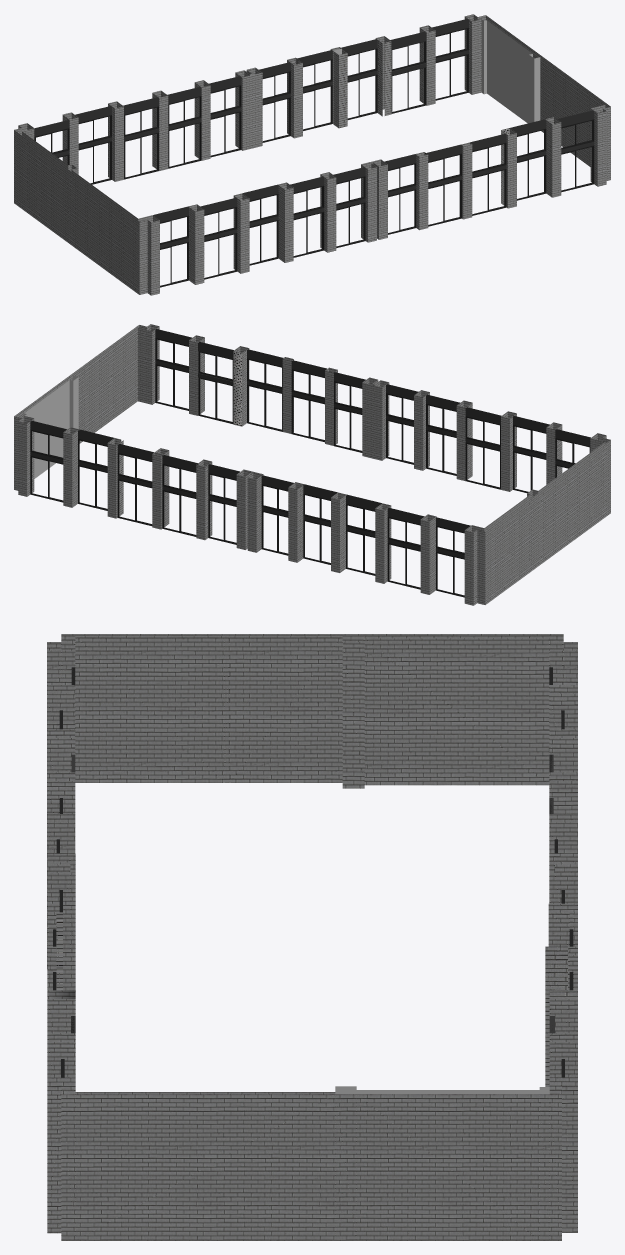
File: MSH_Torre_2_Piso_1.FBX
3 renders of one model, top to bottom at view 1: azimuth 30°, elevation 25°; view 2: azimuth 150°, elevation 25°; view 3: azimuth 270°, elevation 25°, orthographic. The views are drawn at different scales.
Visible parts, largest first — view 1: MSH_Torre_2_Piso_1; view 2: MSH_Torre_2_Piso_1; view 3: MSH_Torre_2_Piso_1.
Part boxes in pixels (<box>): MSH_Torre_2_Piso_1: <box>14,14,610,295</box>; MSH_Torre_2_Piso_1: <box>14,324,610,605</box>; MSH_Torre_2_Piso_1: <box>47,634,577,1240</box>.
Bounding box in the file's own units: 3226 × 480 × 1573.
